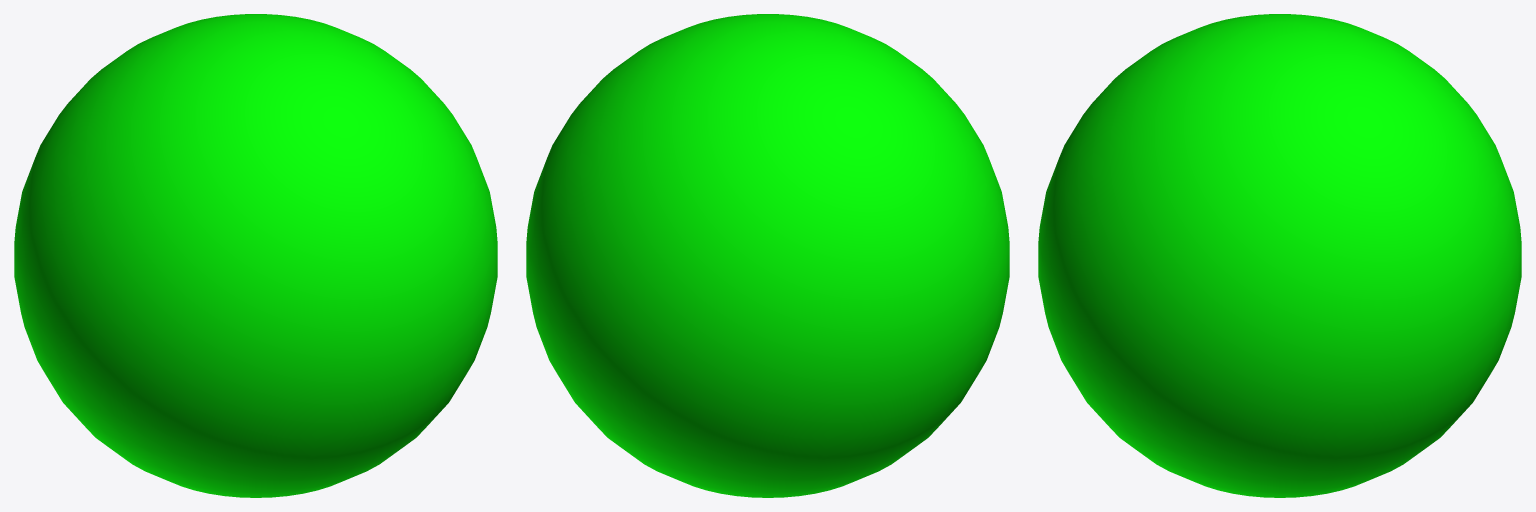
3 renders of one model, left to right at view 1: azimuth 30°, elevation 25°; view 2: azimuth 150°, elevation 25°; view 3: azimuth 270°, elevation 25°, orthographic.
Parts seen in each view (by area): view 1: ID2; view 2: ID2; view 3: ID2.
Part boxes in pixels (bbox=[...]): ID2: bbox=[14, 14, 497, 497]; ID2: bbox=[526, 14, 1009, 497]; ID2: bbox=[1038, 14, 1521, 497].
Bounding box in the file's own units: 0.4977 × 0.498 × 0.5.
